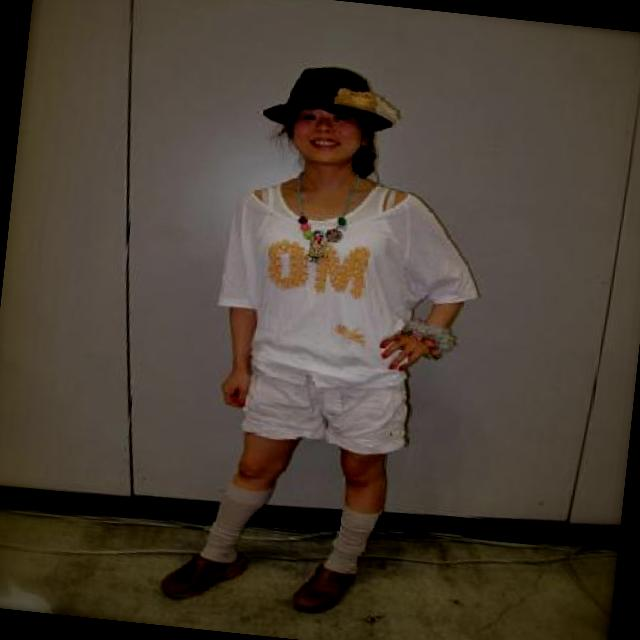Person: (161, 58, 488, 640)
